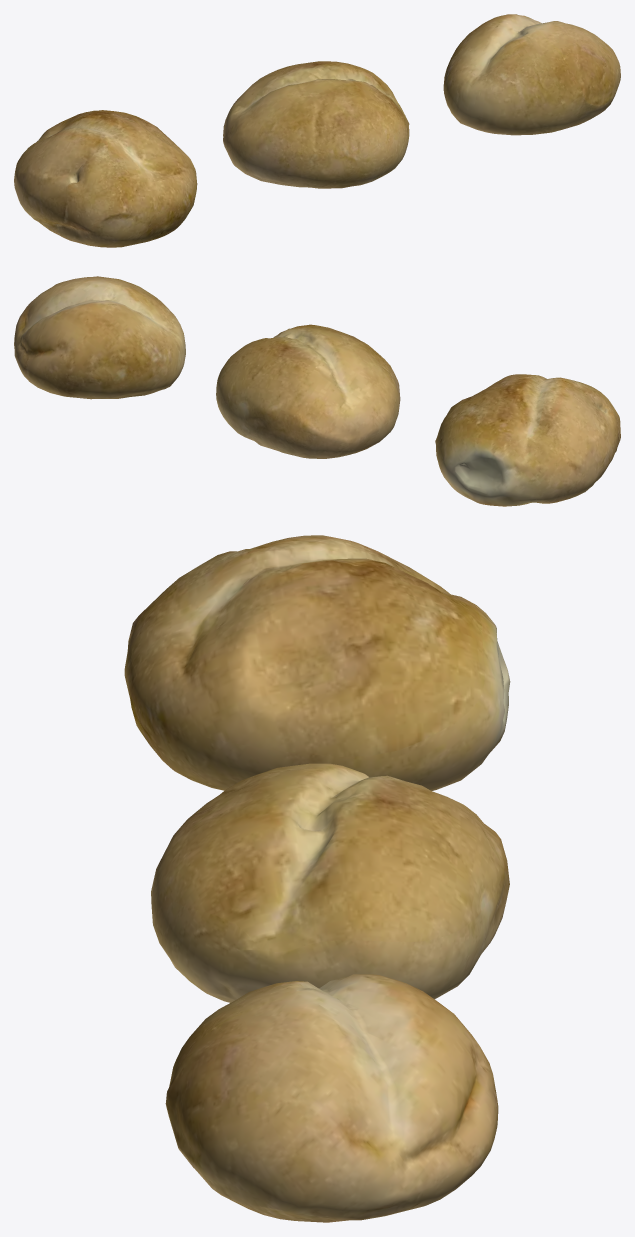
The model's file is buns.glb.
3 renders of one model, top to bottom at view 1: azimuth 30°, elevation 25°; view 2: azimuth 150°, elevation 25°; view 3: azimuth 270°, elevation 25°, orthographic. The views are drawn at different scales.
Visible parts, largest first — view 1: hamburger_buns_01, hamburger_buns_02, hamburger_buns_03; view 2: hamburger_buns_01, hamburger_buns_02, hamburger_buns_03; view 3: hamburger_buns_01, hamburger_buns_02, hamburger_buns_03.
Part boxes in pixels (bbox=[...]): hamburger_buns_01: bbox=[14, 110, 197, 247]; hamburger_buns_02: bbox=[223, 61, 409, 188]; hamburger_buns_03: bbox=[443, 14, 620, 135]; hamburger_buns_01: bbox=[435, 374, 620, 506]; hamburger_buns_02: bbox=[216, 324, 400, 458]; hamburger_buns_03: bbox=[14, 276, 185, 399]; hamburger_buns_01: bbox=[124, 535, 510, 790]; hamburger_buns_02: bbox=[151, 763, 509, 1002]; hamburger_buns_03: bbox=[165, 974, 498, 1222].
Size of the model in its own units: 0.3972 by 0.0634 by 0.1138.
Materials: 1 (1 with a texture image).
